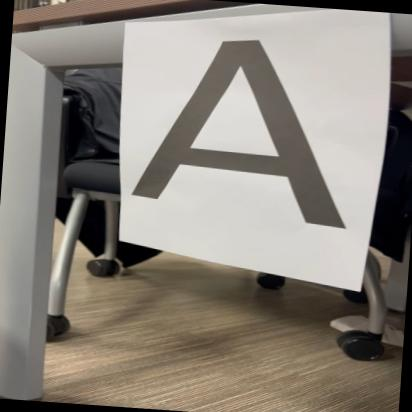seat: (117, 30, 367, 232)
